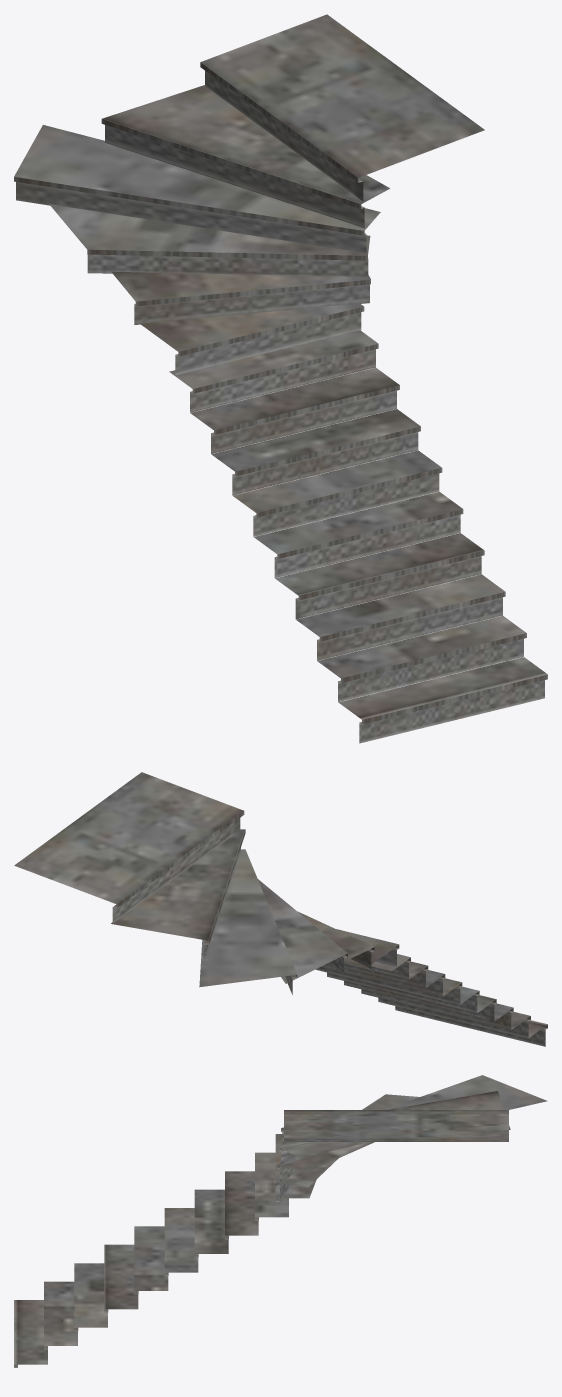
File: stairs.fbx
The picture shows the model from 3 angles, top to bottom: view 1: azimuth 30°, elevation 25°; view 2: azimuth 150°, elevation 25°; view 3: azimuth 270°, elevation 25°; orthographic projection. The views are drawn at different scales.
Parts seen in each view (by area): view 1: Plane.008; view 2: Plane.008; view 3: Plane.008.
Part boxes in pixels (x1,y1,x2,y2): Plane.008: [14, 14, 547, 743]; Plane.008: [14, 772, 547, 1046]; Plane.008: [14, 1075, 547, 1367].
Size of the model in its own units: 209 by 241 by 409.
